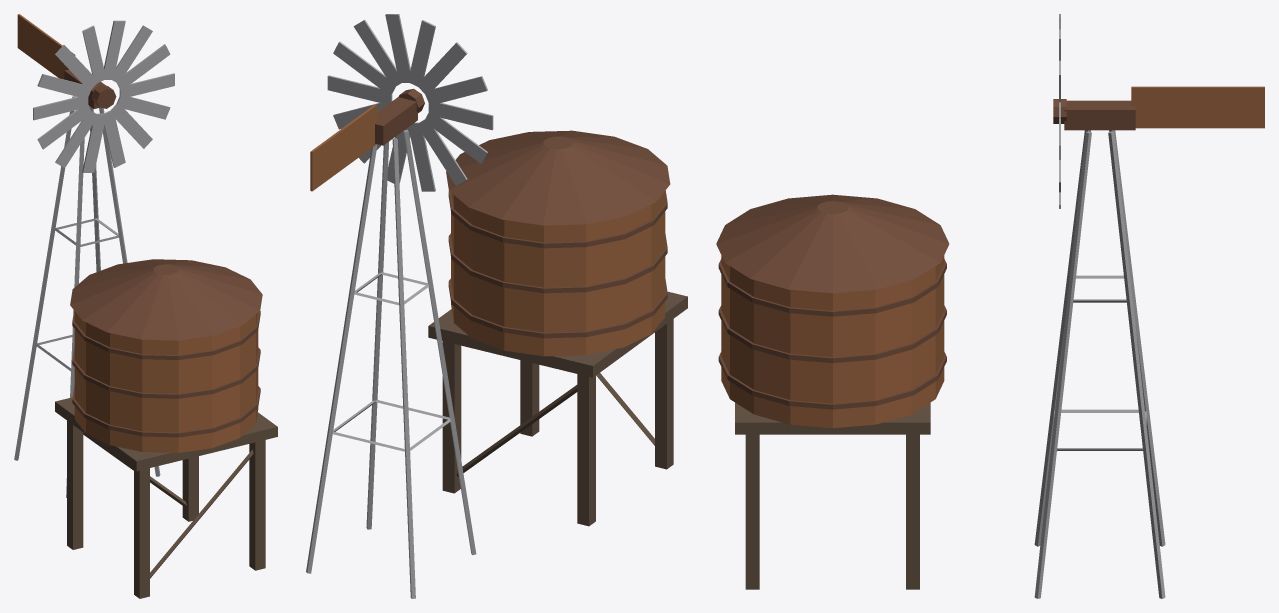
The model's file is water_tank.glb.
3 renders of one model, left to right at view 1: azimuth 30°, elevation 25°; view 2: azimuth 150°, elevation 25°; view 3: azimuth 270°, elevation 25°, orthographic. The views are drawn at different scales.
Parts seen in each view (by area): view 1: water_tank; view 2: water_tank; view 3: water_tank.
Boxes of the visible parts, bbox=[...] form: water_tank: bbox=[14, 14, 277, 598]; water_tank: bbox=[306, 14, 687, 598]; water_tank: bbox=[716, 14, 1264, 598].
Bounding box in the file's own units: 5.82 × 13.59 × 12.32.
